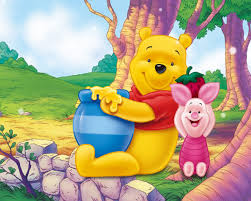Winnie: (130, 25, 192, 126)
